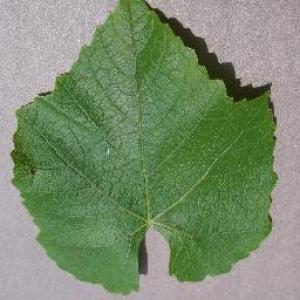Folha: (9, 0, 278, 295)
